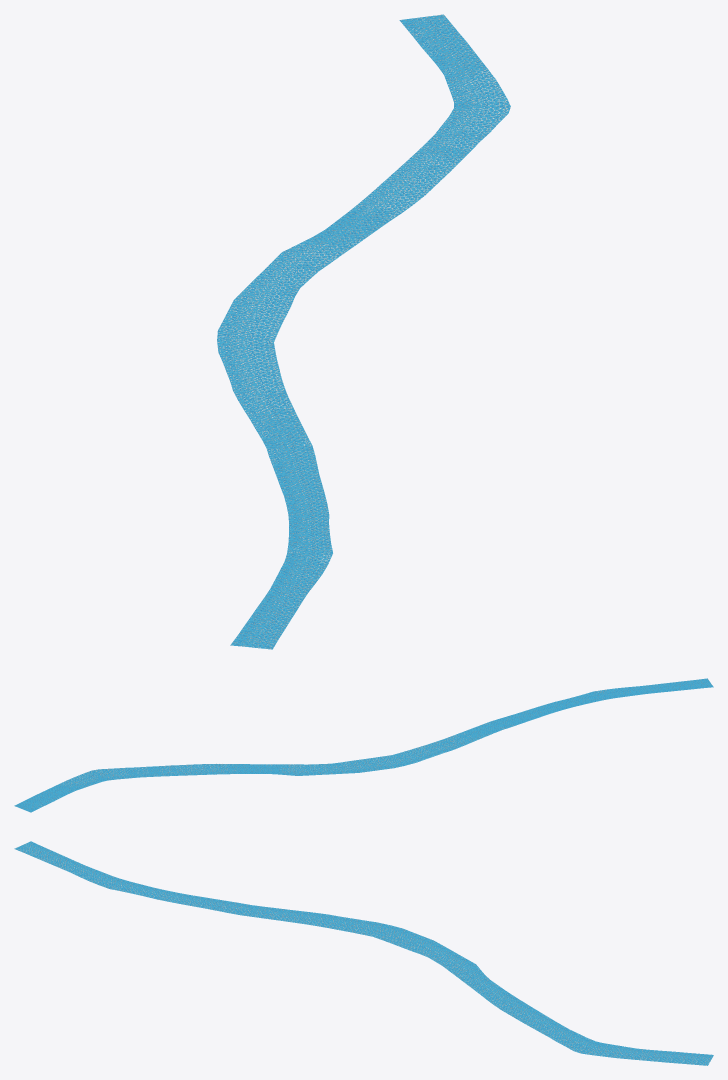
The picture shows the model from 3 angles, top to bottom: view 1: azimuth 30°, elevation 25°; view 2: azimuth 150°, elevation 25°; view 3: azimuth 270°, elevation 25°; orthographic projection. The views are drawn at different scales.
Visible parts, largest first — view 1: River_Mesh.012, River_Mesh_Upper.012; view 2: River_Mesh.012, River_Mesh_Upper.012; view 3: River_Mesh.012, River_Mesh_Upper.012.
Part boxes in pixels (box(x1,y1,x2,y2)): River_Mesh.012: box(217, 14, 510, 649); River_Mesh_Upper.012: box(217, 15, 510, 648); River_Mesh.012: box(14, 678, 713, 812); River_Mesh_Upper.012: box(16, 679, 711, 811); River_Mesh.012: box(14, 841, 713, 1065); River_Mesh_Upper.012: box(15, 842, 713, 1065).
Bounding box in the file's own units: 359 × 0.0638 × 472.
2 materials, 2 textured.
